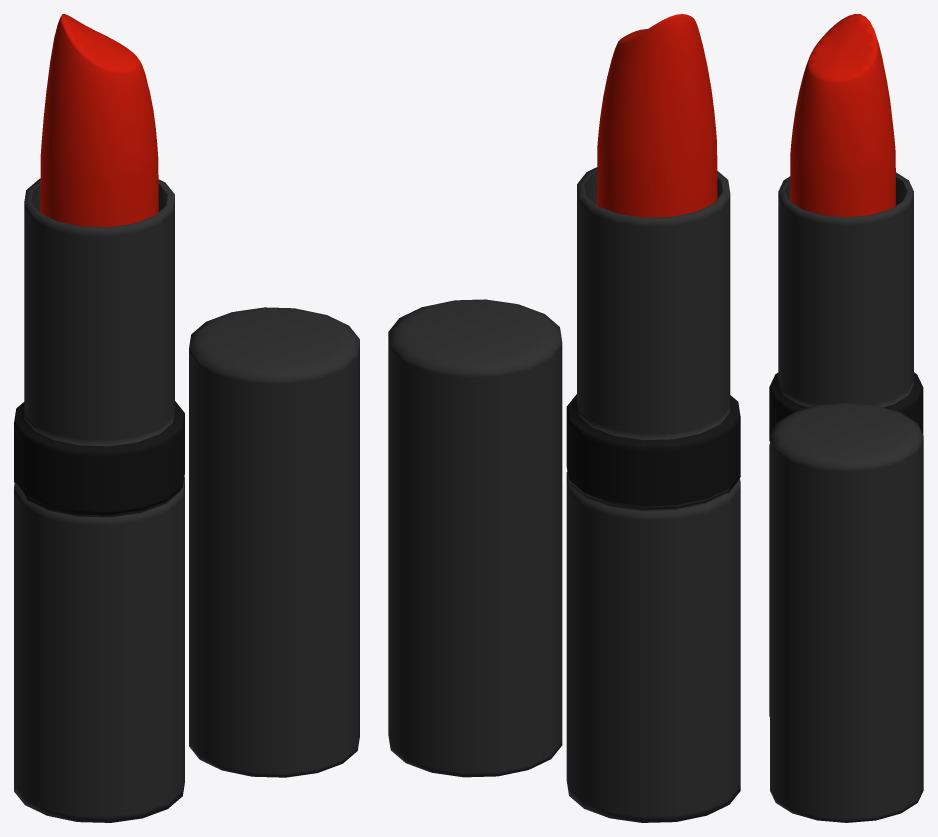
File: lipstick.fbx
3 views of the same model, side by side, from view 1: azimuth 30°, elevation 25°; view 2: azimuth 150°, elevation 25°; view 3: azimuth 270°, elevation 25° (orthographic). The views are drawn at different scales.
Parts seen in each view (by area): view 1: Lipstick Case, LipstickCap, Lipstick; view 2: Lipstick Case, LipstickCap, Lipstick; view 3: LipstickCap, Lipstick Case, Lipstick.
Boxes of the visible parts, left/top/right/bottom form: Lipstick Case: left=14, top=178, right=184, bottom=822; LipstickCap: left=189, top=307, right=359, bottom=777; Lipstick: left=40, top=14, right=158, bottom=227; Lipstick Case: left=566, top=167, right=740, bottom=822; LipstickCap: left=388, top=299, right=562, bottom=777; Lipstick: left=597, top=14, right=717, bottom=217; LipstickCap: left=770, top=403, right=923, bottom=822; Lipstick Case: left=769, top=172, right=923, bottom=716; Lipstick: left=790, top=14, right=895, bottom=217.
Bounding box in the file's own units: 0.1457 × 0.3313 × 0.0673.
